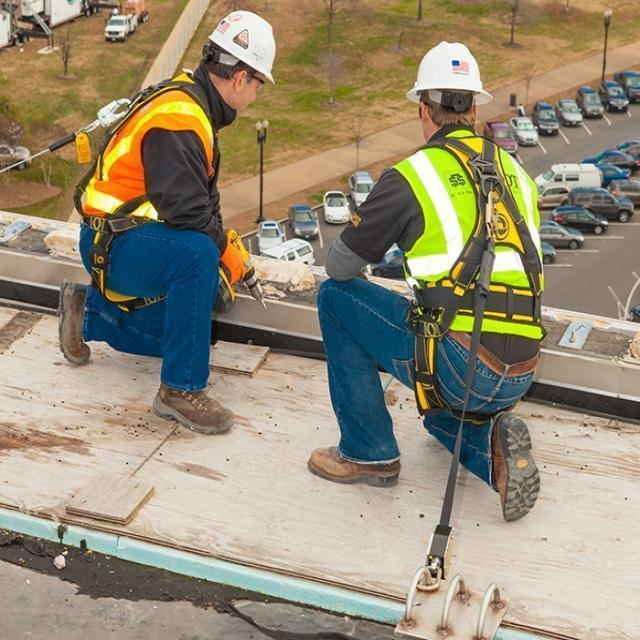Arnes_seguridad: (399, 132, 547, 432), (67, 76, 221, 309)
